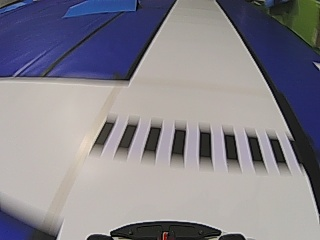CrossWalk: (90, 118, 284, 163)
